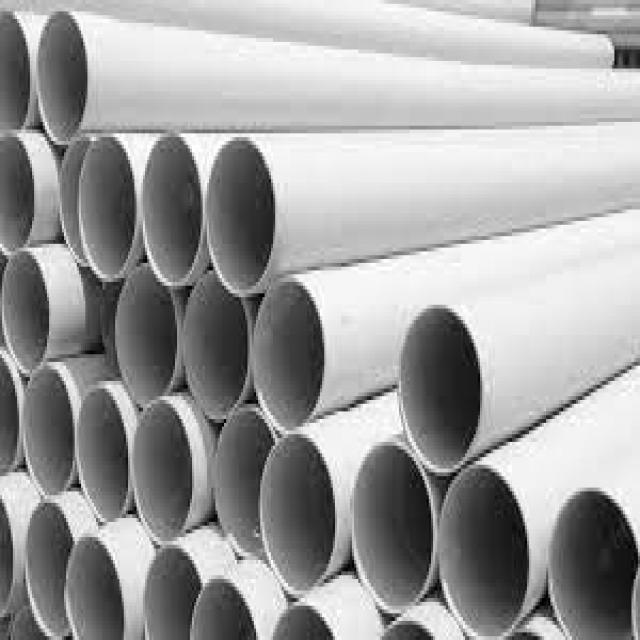pipe: (441, 461, 528, 640), (551, 484, 640, 640), (400, 303, 482, 471), (351, 444, 434, 608), (262, 435, 335, 590), (254, 279, 324, 431), (208, 137, 275, 291), (184, 271, 250, 420), (143, 133, 202, 284), (215, 407, 276, 551), (117, 264, 178, 403), (134, 399, 193, 542), (79, 135, 137, 279), (78, 383, 130, 521), (37, 10, 90, 142), (25, 503, 75, 639), (24, 367, 75, 497), (2, 245, 51, 375), (67, 539, 125, 639), (143, 546, 202, 639), (0, 138, 34, 253), (192, 580, 255, 640), (0, 13, 30, 132)
